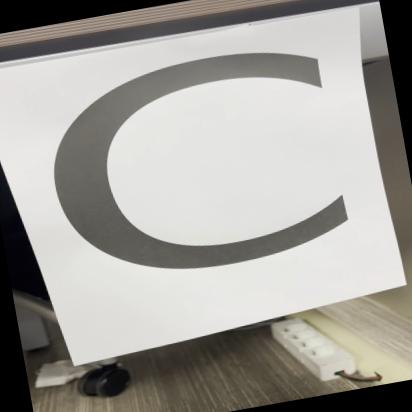seat: (0, 1, 411, 361)
